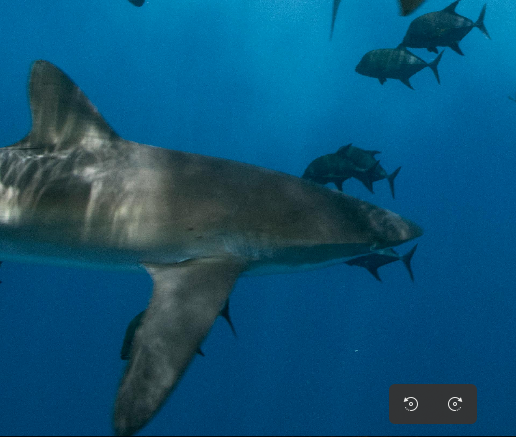fishLarge: (119, 298, 238, 359), (301, 143, 379, 195), (354, 48, 448, 91), (341, 144, 404, 201), (342, 244, 420, 284)
shark: (1, 57, 424, 437)
